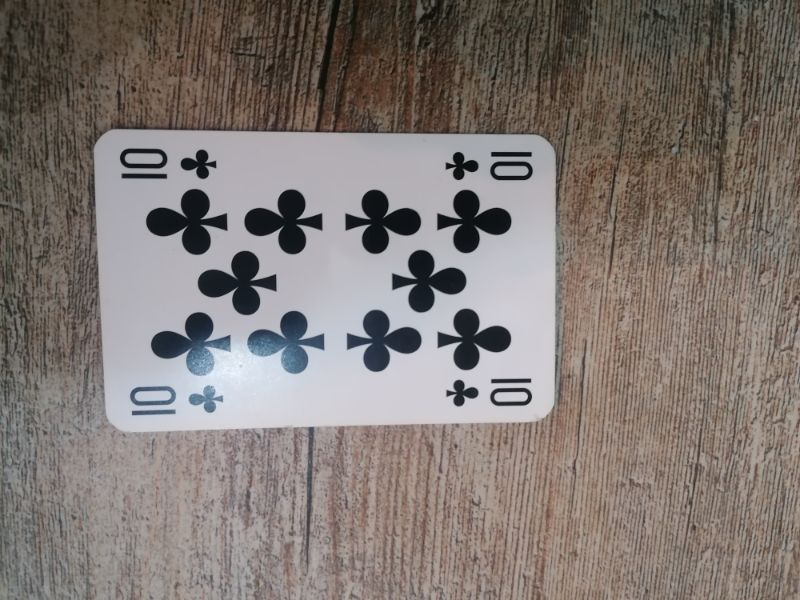Tc: (114, 145, 222, 183), (125, 383, 228, 418), (443, 374, 538, 409), (443, 147, 537, 182)
